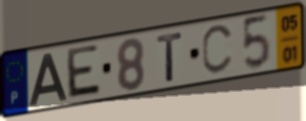5: (241, 11, 273, 73)
8: (115, 36, 147, 92)
A: (27, 51, 70, 108)
C: (200, 22, 236, 77)
E: (65, 42, 103, 101)
T: (155, 30, 185, 84)
